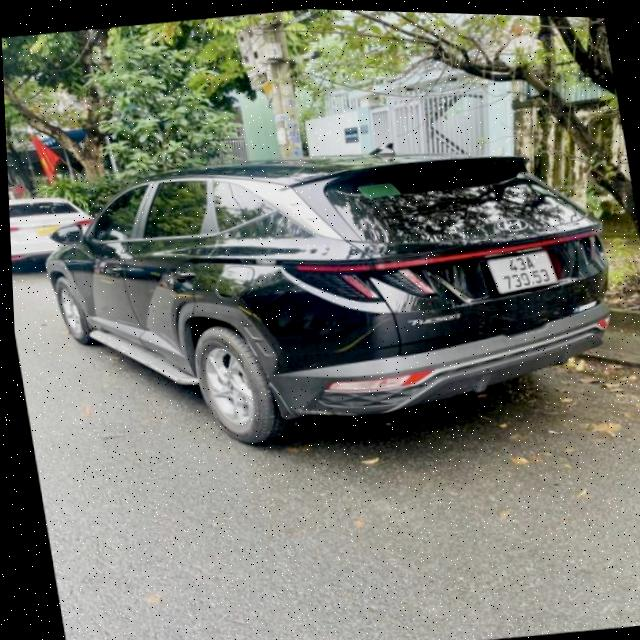car: (27, 115, 638, 482), (8, 180, 102, 280)
plate: (481, 240, 565, 302)
